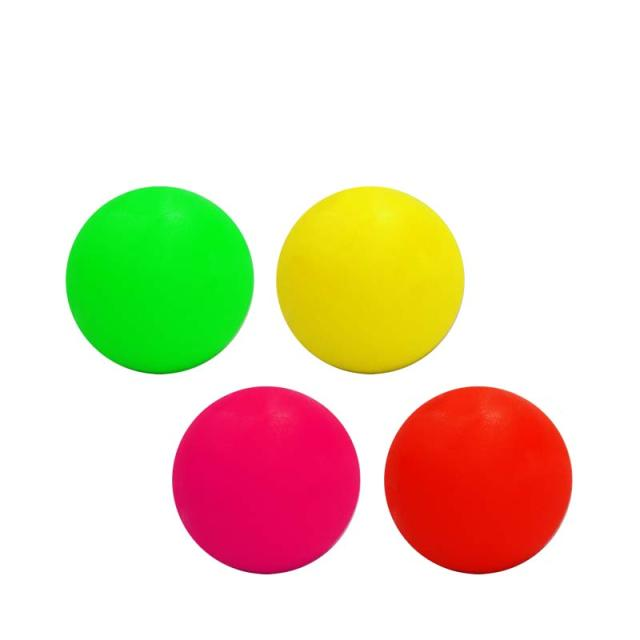hatball: (49, 175, 259, 382), (378, 383, 582, 581), (163, 385, 368, 577), (274, 183, 472, 378)
